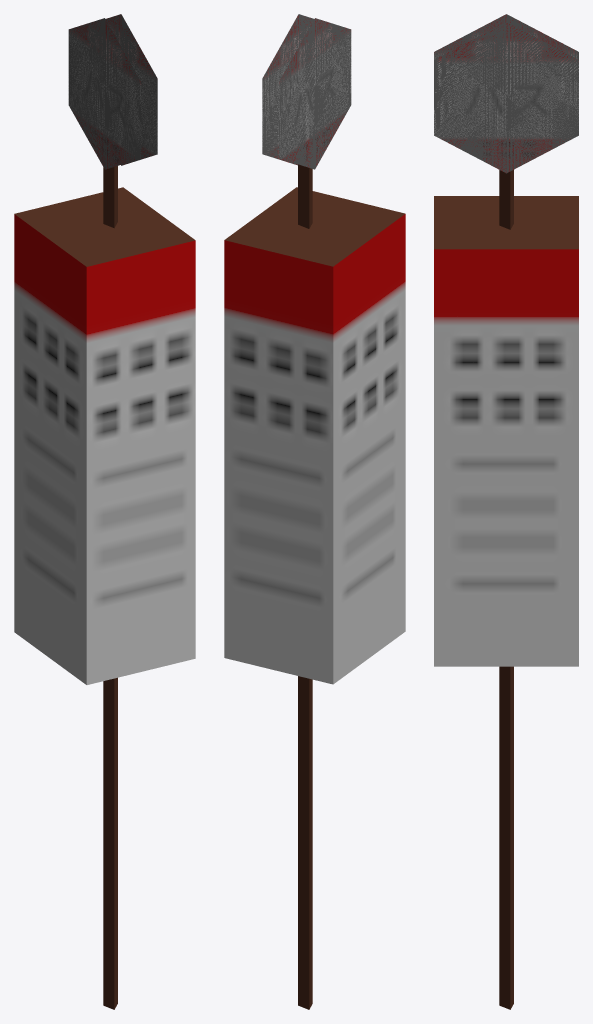
File: Prop_Sign_BusStop.fbx
3 views of the same model, side by side, from view 1: azimuth 30°, elevation 25°; view 2: azimuth 150°, elevation 25°; view 3: azimuth 270°, elevation 25° (orthographic).
Visible parts, largest first — view 1: Prop_Sign_BusStop; view 2: Prop_Sign_BusStop; view 3: Prop_Sign_BusStop.
Boxes of the visible parts, x1,y1,x2,y2 form: Prop_Sign_BusStop: [14, 14, 195, 1009]; Prop_Sign_BusStop: [224, 14, 405, 1009]; Prop_Sign_BusStop: [434, 14, 578, 1009].
Size of the model in its own units: 40 by 347 by 46.1.
